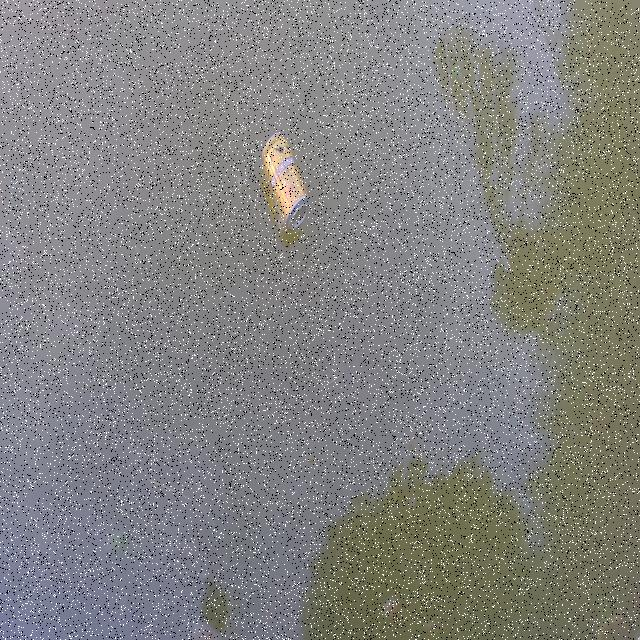Can: (258, 126, 312, 233)
